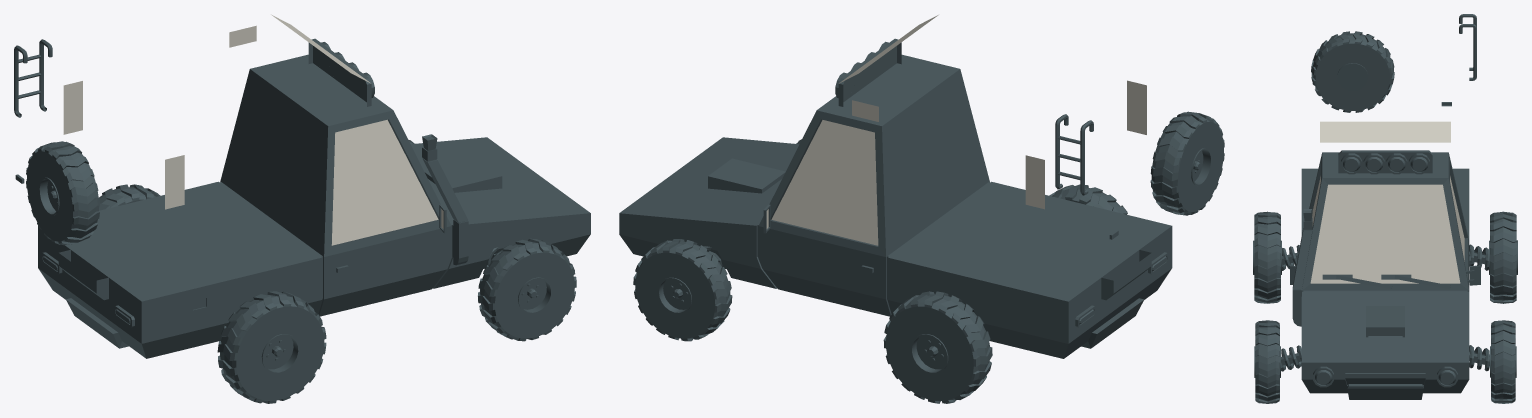
The model's file is Low-poly_truck_Drifter.glb.
3 renders of one model, left to right at view 1: azimuth 30°, elevation 25°; view 2: azimuth 150°, elevation 25°; view 3: azimuth 270°, elevation 25°, orthographic. The views are drawn at different scales.
Parts seen in each view (by area): view 1: unnamed (×6); view 2: unnamed (×6); view 3: unnamed (×7).
Part boxes in pixels (x1,y1,x2,y2): unnamed (×6): (14, 14, 590, 403); unnamed (×6): (619, 15, 1224, 403); unnamed (×7): (1253, 14, 1517, 403).
Bounding box in the file's own units: 5.75 × 3.1 × 3.16.
